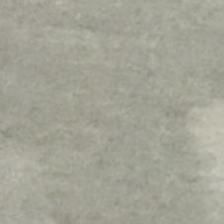Non_Crack: (13, 15, 224, 213)
